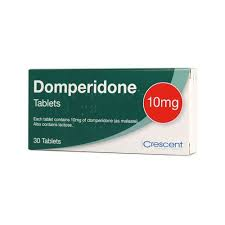Domperidone: (30, 76, 141, 95)
